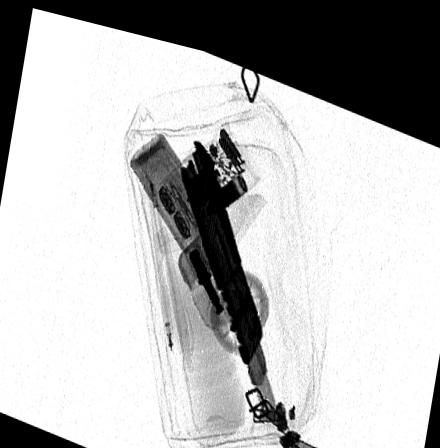Knife: (178, 127, 277, 406)
